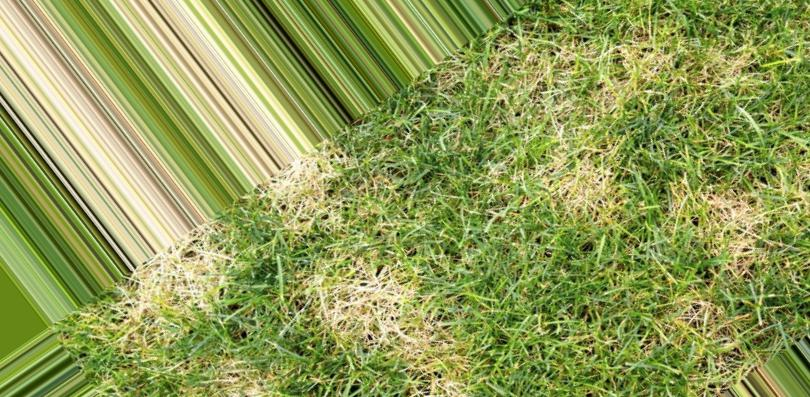patch: (520, 110, 637, 213), (324, 286, 434, 371), (658, 280, 729, 365), (694, 190, 774, 262), (149, 249, 213, 334), (598, 35, 679, 91), (279, 167, 336, 210)
